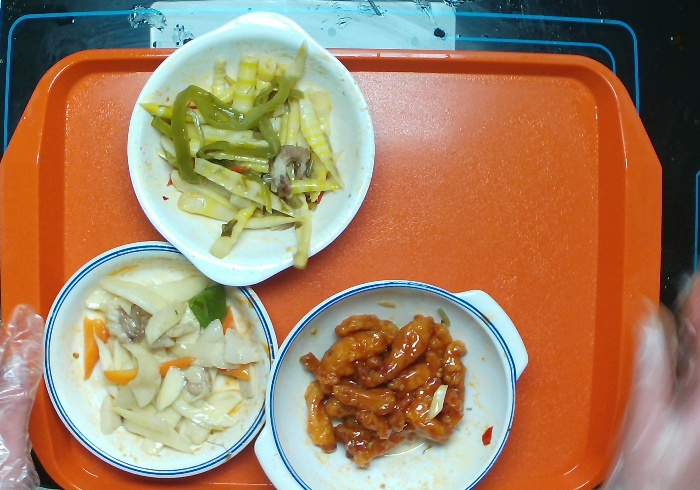HZYJPL-Dai_Er_Bai_Yuan_Wan: (127, 10, 375, 289)
HZYJPL-Lan_Bian_Dai_Er_Wan: (255, 280, 533, 490)
HZYJPL-Lan_Bian_Yuan_Die: (40, 239, 280, 481)
